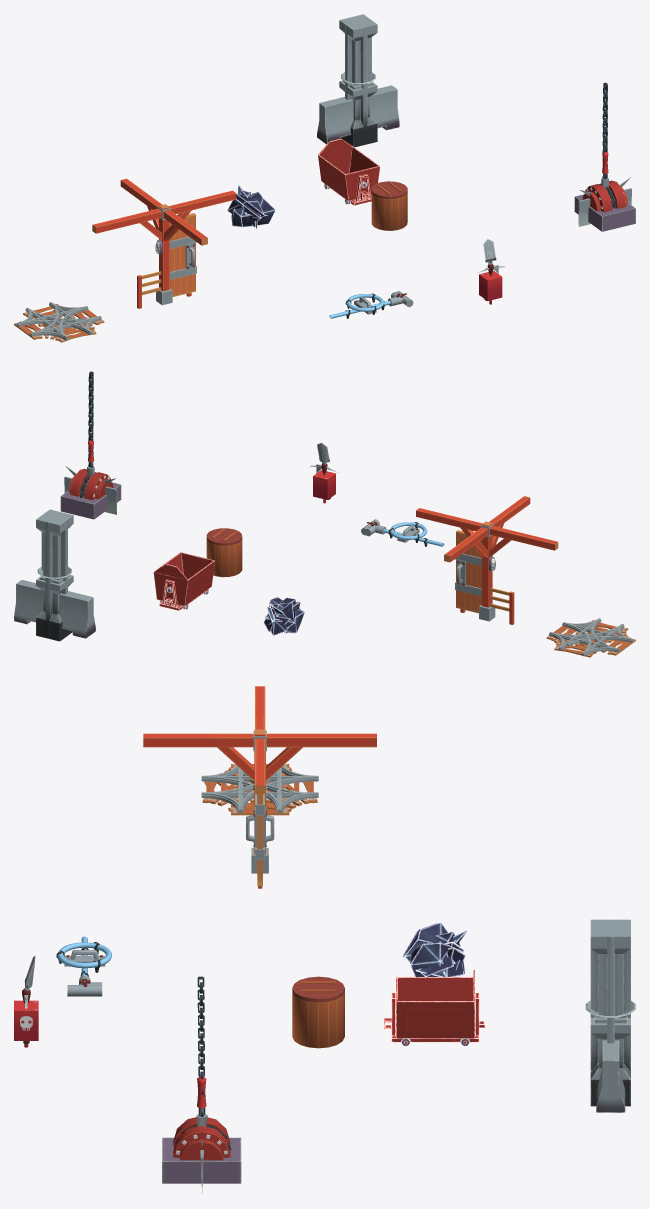
File: MinesPack.gltf
3 renders of one model, top to bottom at view 1: azimuth 30°, elevation 25°; view 2: azimuth 150°, elevation 25°; view 3: azimuth 270°, elevation 25°, orthographic. The views are drawn at different scales.
Parts seen in each view (by area): view 1: Blockade, Post_2, Cart_1, Post_1, Door, JarWood, ContraptionBase, Rail_+, LeverContraption, WoodPost, Rocks_6, Rail_C (+9 smaller); view 2: Post_2, Blockade, Cart_1, Post_1, Door, JarWood, ContraptionBase, Rail_+, LeverContraption, Cart_2, WoodPost, Rail_T (+12 smaller); view 3: Cart_1, Post_2, Post_1, ContraptionBase, JarWood, LeverContraption, Rail_+, Blockade, WoodPostBeams_3, Cart_2, WoodPostBeams_1, Rail_T (+10 smaller).
Part boxes in pixels (x1,y1,x2,y2): Blockade: (317,85,399,144); Post_2: (339,14,377,147); Cart_1: (318,138,379,200); Post_1: (345,16,371,145); Door: (170,213,195,296); JarWood: (371,191,407,230); ContraptionBase: (574,194,635,231); Rail_+: (14,302,104,340); LeverContraption: (582,180,627,212); WoodPost: (159,204,169,291); Rocks_6: (231,191,275,227); Rail_C: (14,320,92,342); Post_2: (36,509,73,641); Blockade: (14,580,95,638); Cart_1: (153,552,214,606); Post_1: (41,512,67,638); Door: (456,530,481,613); JarWood: (206,539,242,577); ContraptionBase: (60,482,121,519); Rail_+: (547,620,635,656); LeverContraption: (68,468,113,500); Cart_2: (154,553,214,605); WoodPost: (481,521,492,607); Rail_T: (546,619,625,657); Cart_1: (396,970,474,1038); Post_2: (590,919,630,1106); Post_1: (590,919,630,1072); ContraptionBase: (162,1137,241,1183); JarWood: (292,992,344,1048); LeverContraption: (173,1117,230,1160); Rail_+: (201,764,318,815); Blockade: (596,1040,625,1112); WoodPostBeams_3: (267,733,376,747); Cart_2: (396,977,473,1001); WoodPostBeams_1: (143,733,253,747); Rail_T: (201,776,317,815).
Bounding box in the file's own units: 16.75 × 3.75 × 10.64.
Materials: 8 (8 with a texture image).
